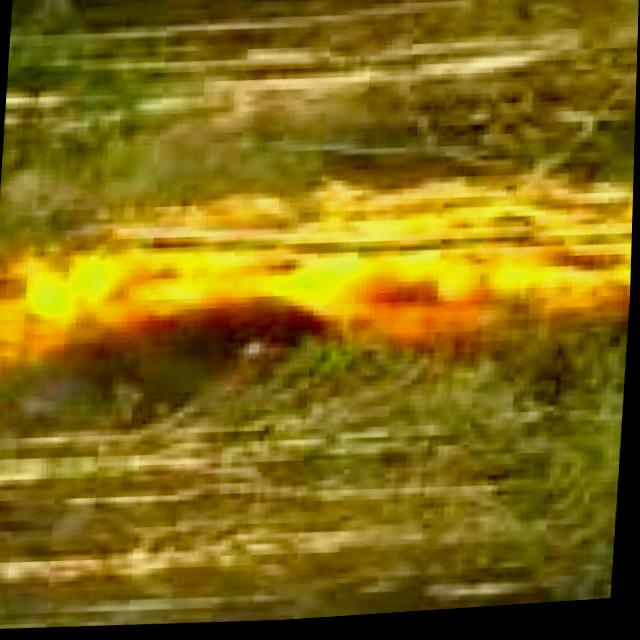fire: (82, 170, 635, 373), (0, 240, 54, 480)
